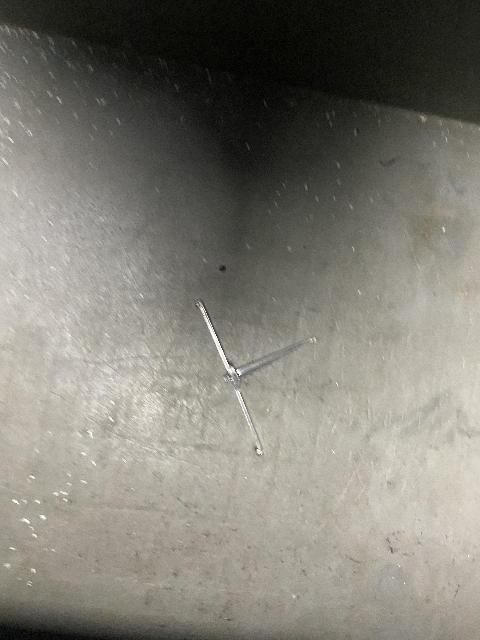Plastik: (195, 300, 313, 456)
